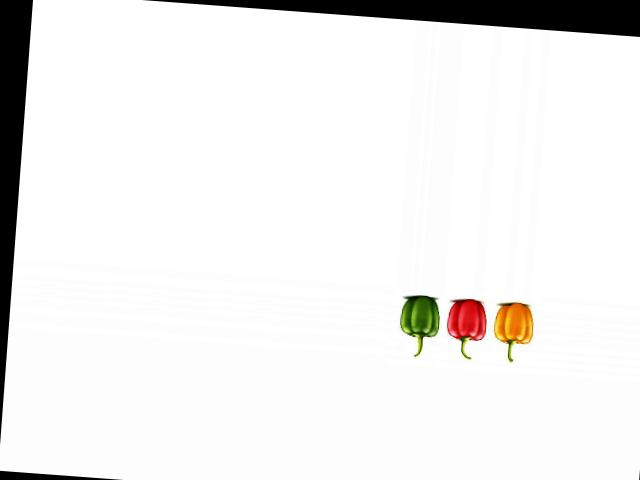bell_pepper: (393, 290, 441, 357)
